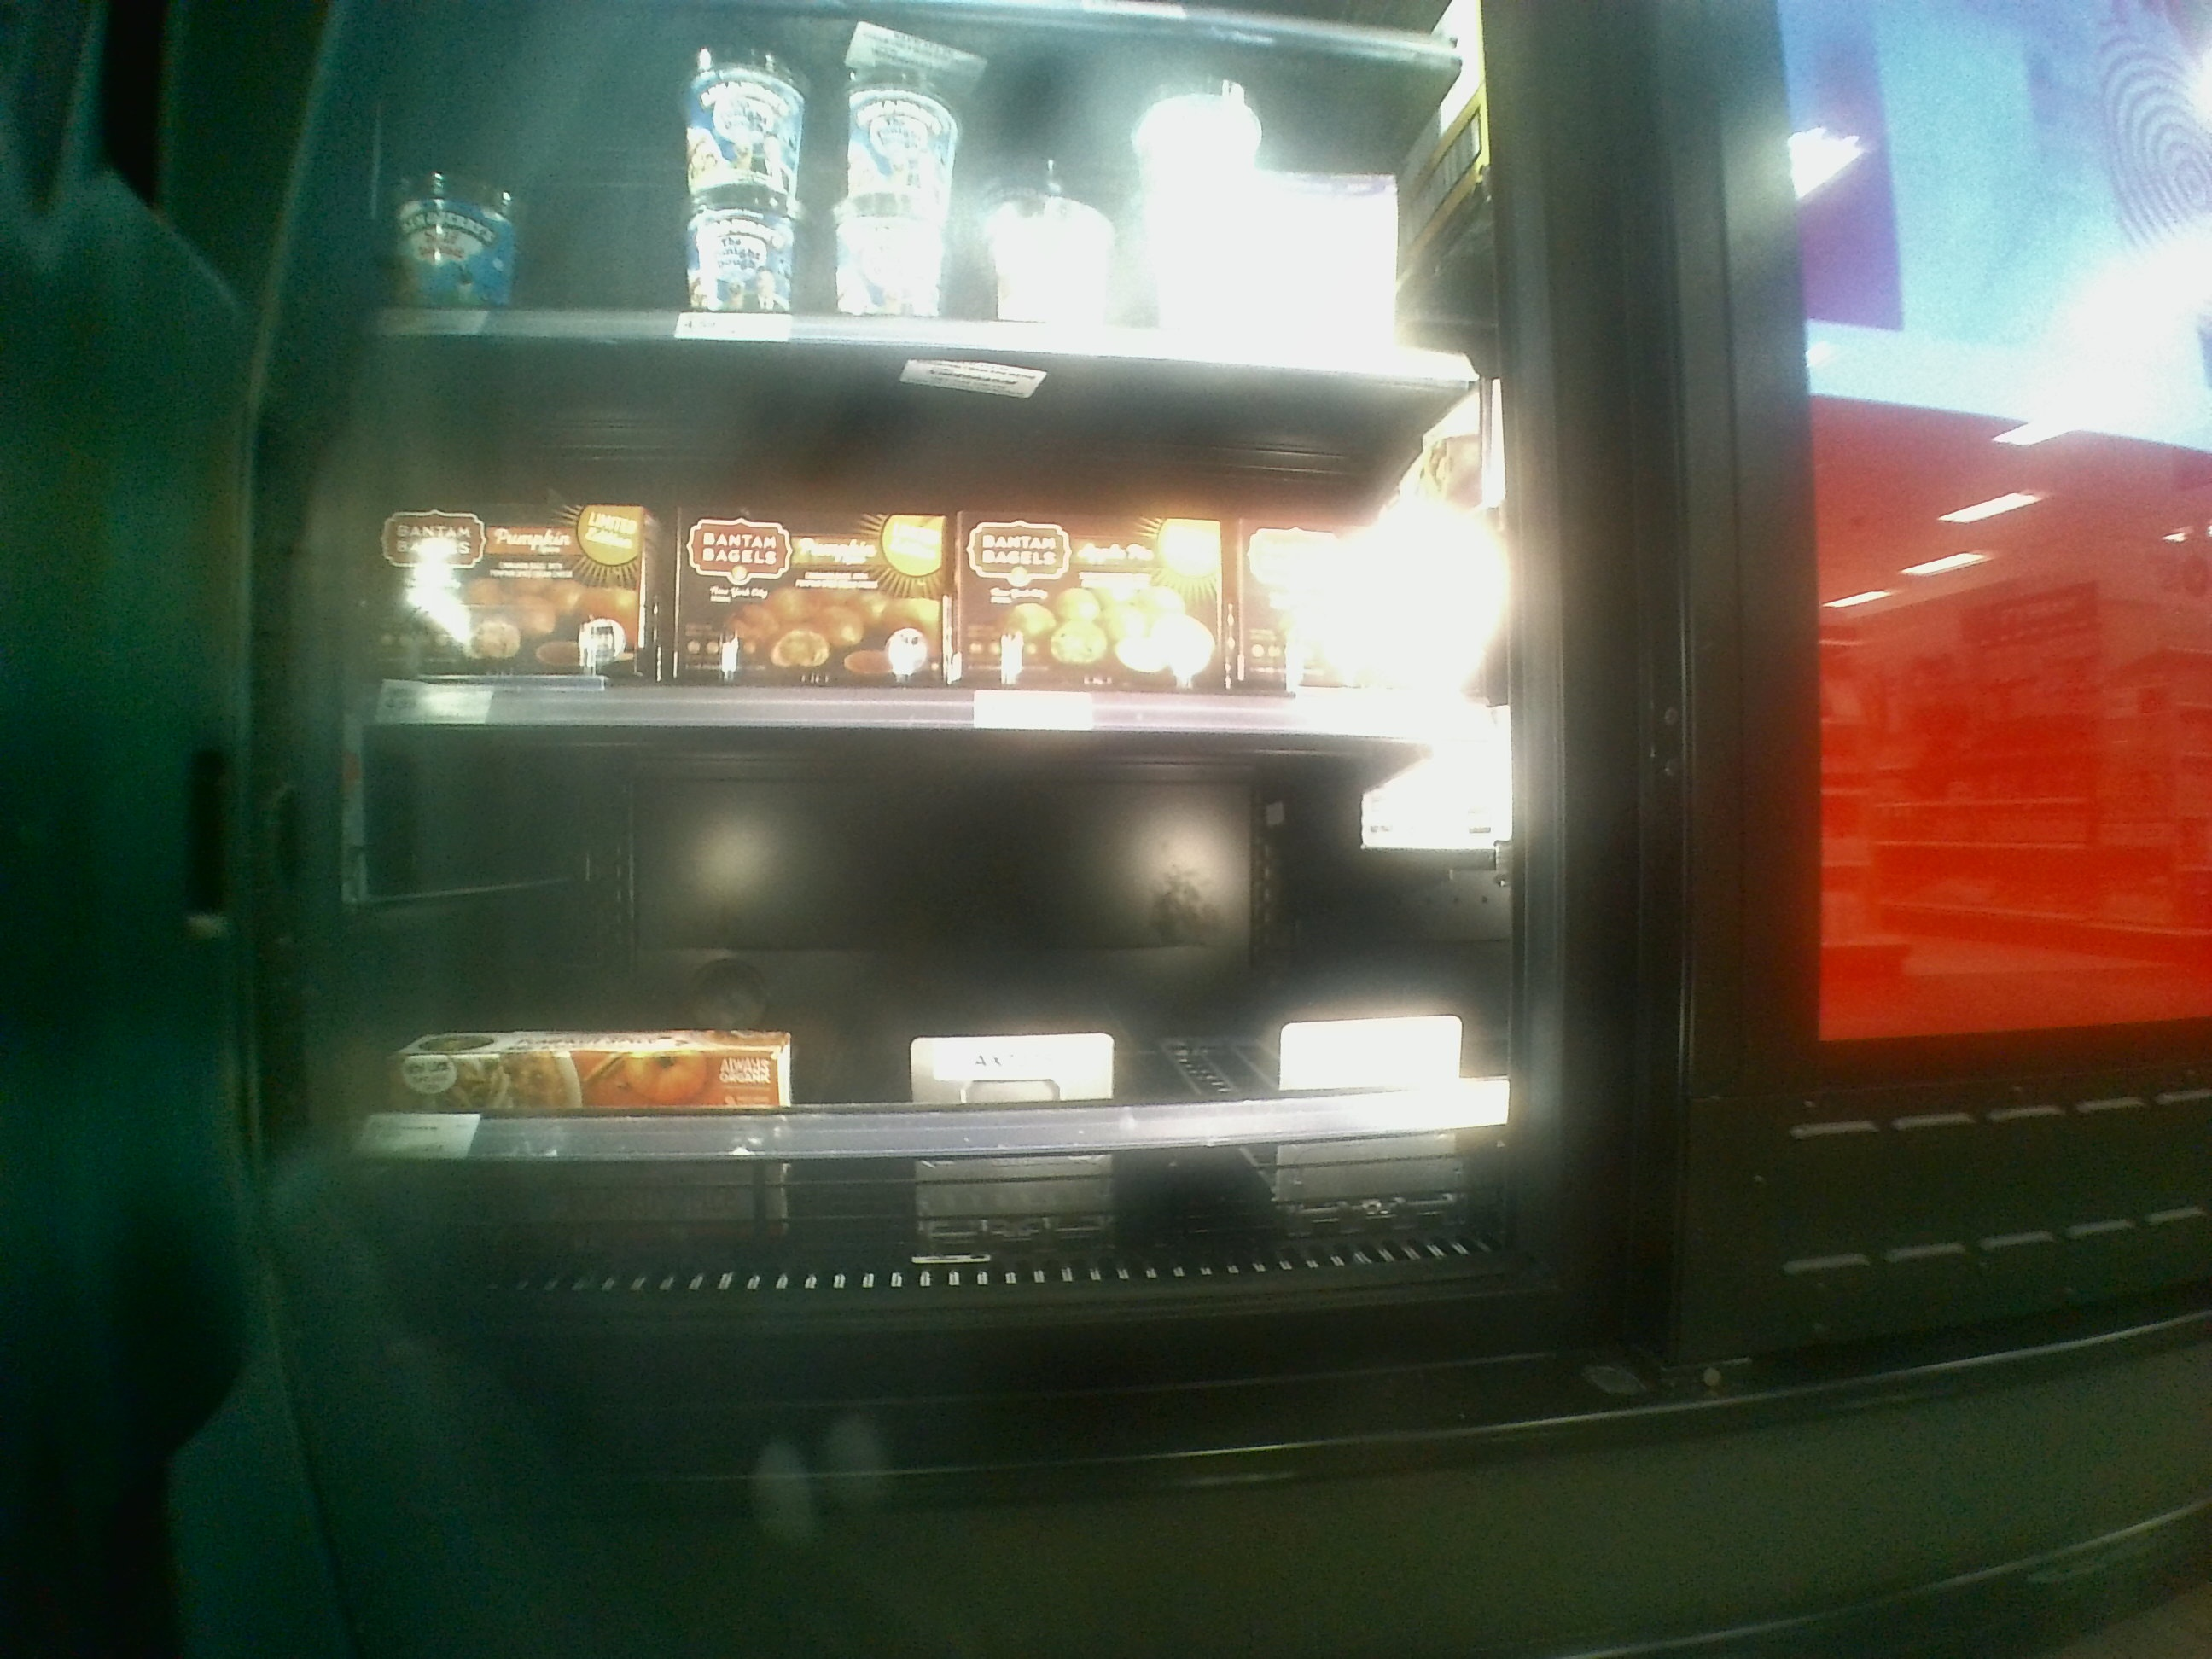shelf: (369, 695, 1524, 1300), (374, 321, 1489, 721)
